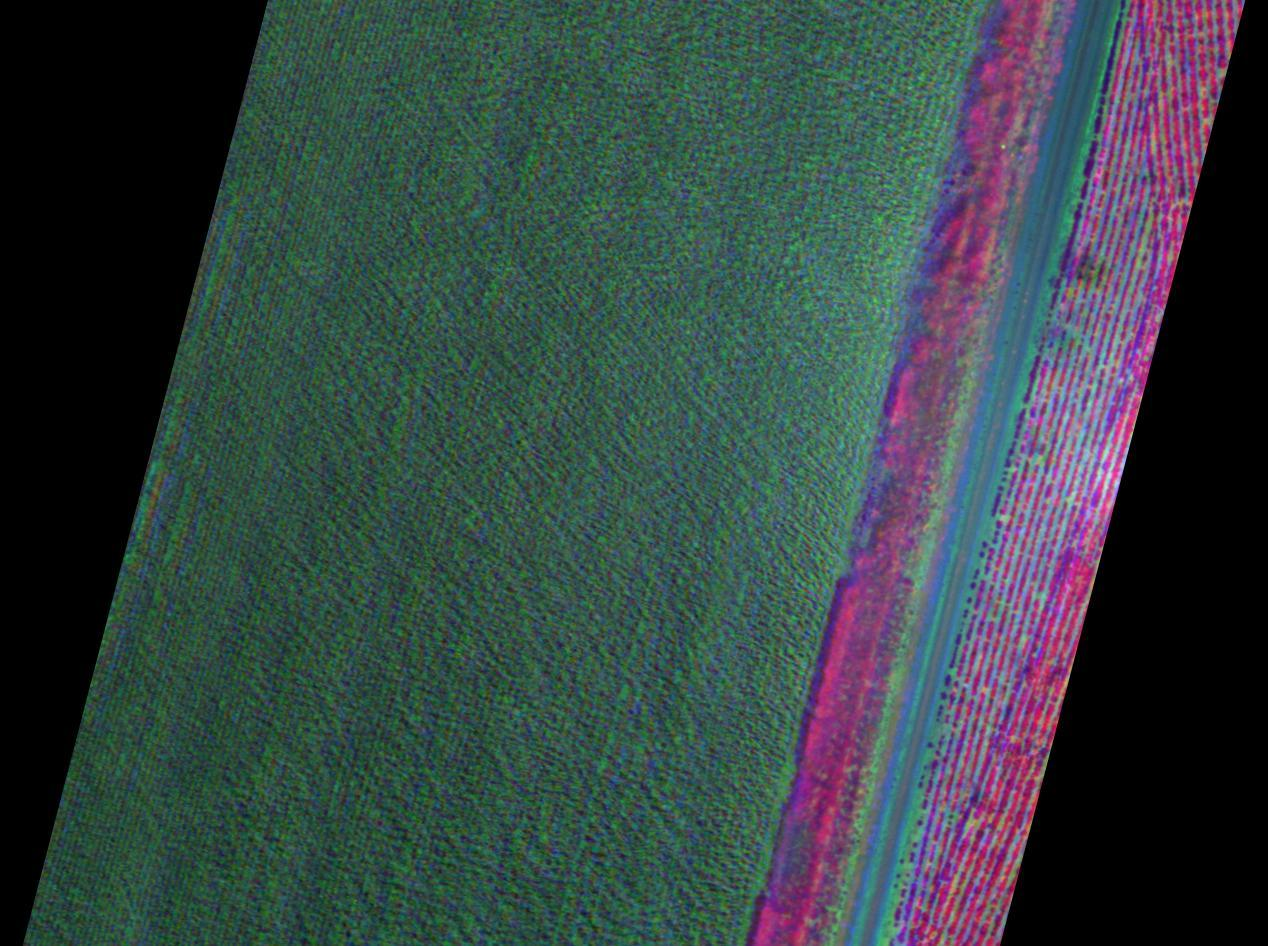dc: (1038, 224, 1127, 302)
